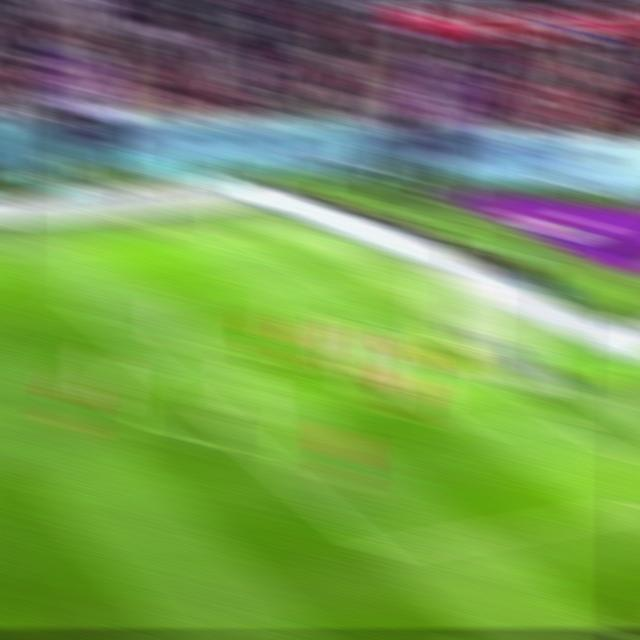bigarea_bottom_inner: (354, 536, 400, 571)
bigarea_top_inner: (60, 292, 98, 318)
bigarea_top_outter: (296, 263, 334, 288)
bottom_arc_area_intersection: (236, 436, 276, 463)
corner: (216, 221, 256, 240)
smallarea_bottom_inner: (448, 414, 490, 449)
smallarea_bottom_outter: (538, 403, 580, 432)
smallarea_top_inner: (296, 318, 334, 346)
smallarea_top_outter: (373, 308, 413, 332)
top_arc_area_intersection: (133, 350, 171, 374)
